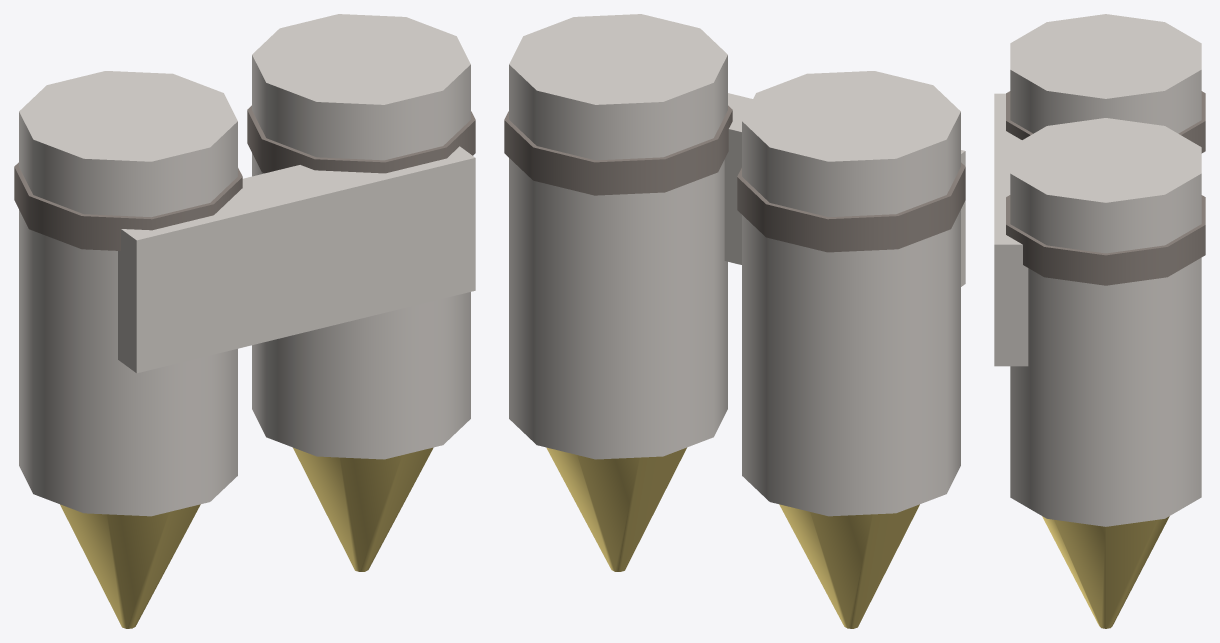
File: outfit_jetpack.glb
3 views of the same model, side by side, from view 1: azimuth 30°, elevation 25°; view 2: azimuth 150°, elevation 25°; view 3: azimuth 270°, elevation 25° (orthographic). The views are drawn at different scales.
Parts seen in each view (by area): view 1: outfit_jetpack; view 2: outfit_jetpack; view 3: outfit_jetpack.
Part boxes in pixels (x1,y1,x2,y2): outfit_jetpack: (14,14,475,628); outfit_jetpack: (504,14,965,628); outfit_jetpack: (994,14,1205,628).
Size of the model in its own units: 20.4 by 23 by 9.47.
